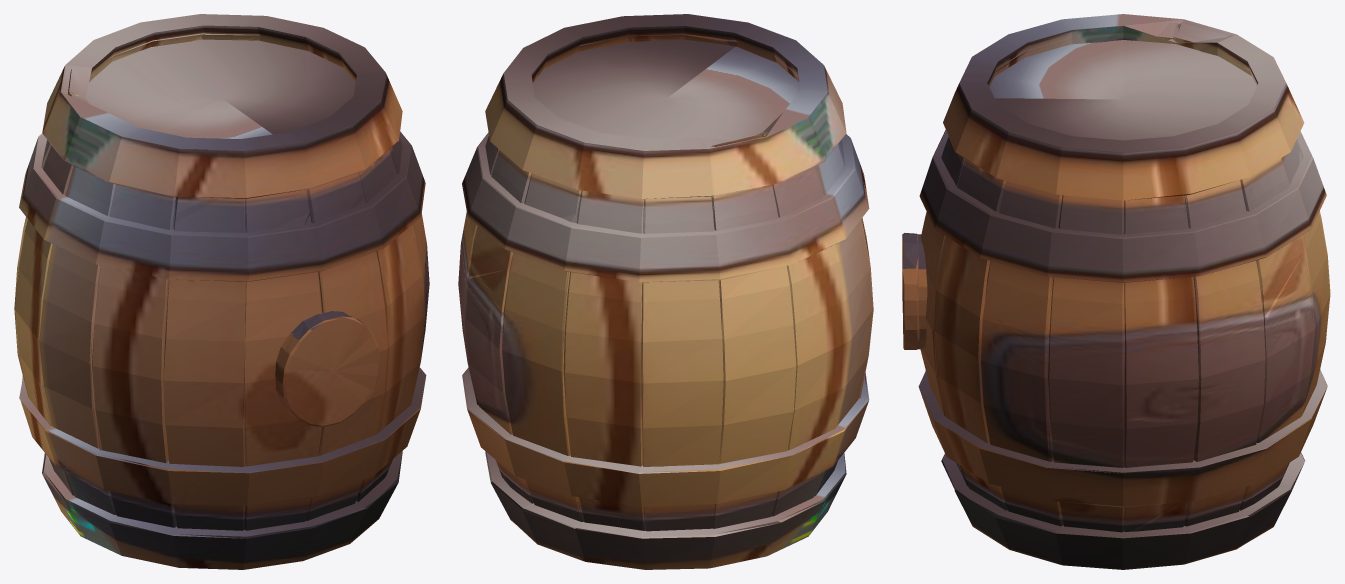
File: barrel_2.glb
3 renders of one model, left to right at view 1: azimuth 30°, elevation 25°; view 2: azimuth 150°, elevation 25°; view 3: azimuth 270°, elevation 25°, orthographic.
Parts seen in each view (by area): view 1: mesh_node; view 2: mesh_node; view 3: mesh_node.
Part boxes in pixels (x1,y1,x2,y2): mesh_node: [14, 14, 429, 569]; mesh_node: [458, 14, 873, 569]; mesh_node: [902, 14, 1330, 569].
Size of the model in its own units: 0.6398 by 0.7 by 0.6494.
1 material, 1 textured.
